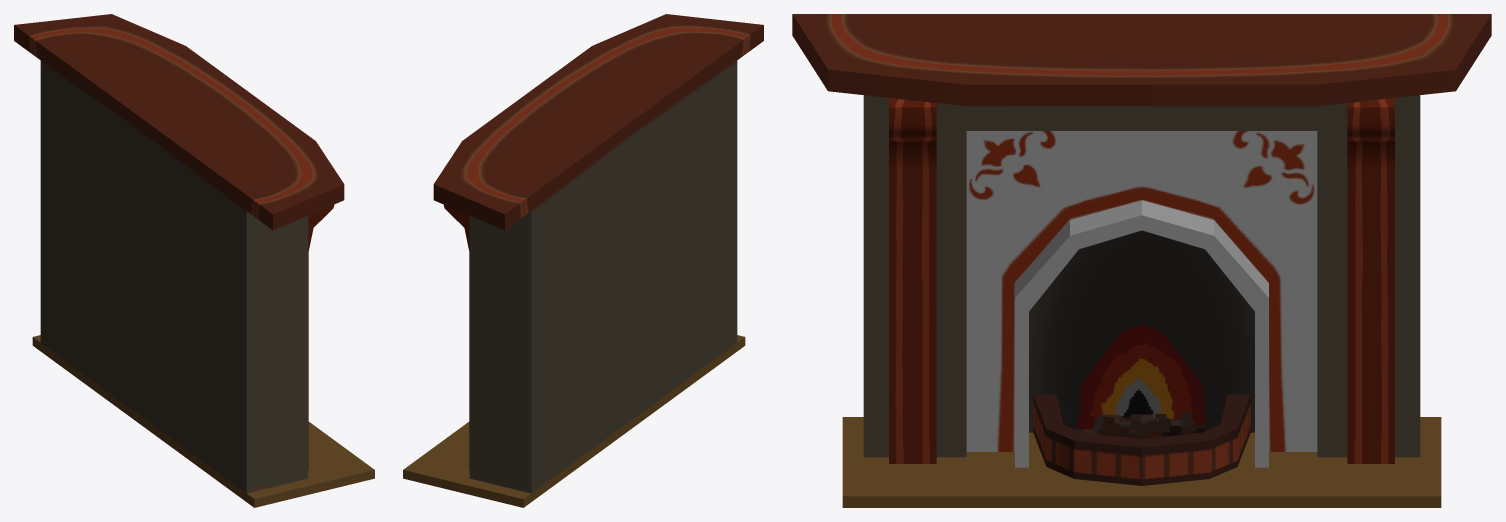
The model's file is VicFire.fbx.
3 renders of one model, left to right at view 1: azimuth 30°, elevation 25°; view 2: azimuth 150°, elevation 25°; view 3: azimuth 270°, elevation 25°, orthographic. The views are drawn at different scales.
Parts seen in each view (by area): view 1: VicFire; view 2: VicFire; view 3: VicFire.
Part boxes in pixels (x1,y1,x2,y2): VicFire: (14,14,374,507); VicFire: (403,14,763,507); VicFire: (792,14,1491,507).
Size of the model in its own units: 1.43 by 3.48 by 5.32.
1 material, 1 textured.
